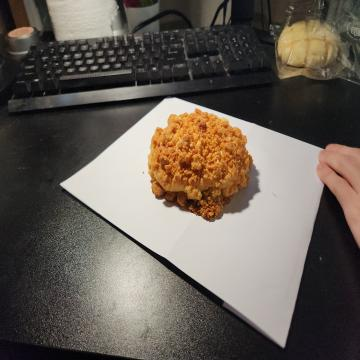soboru_bread: (147, 109, 251, 221)
